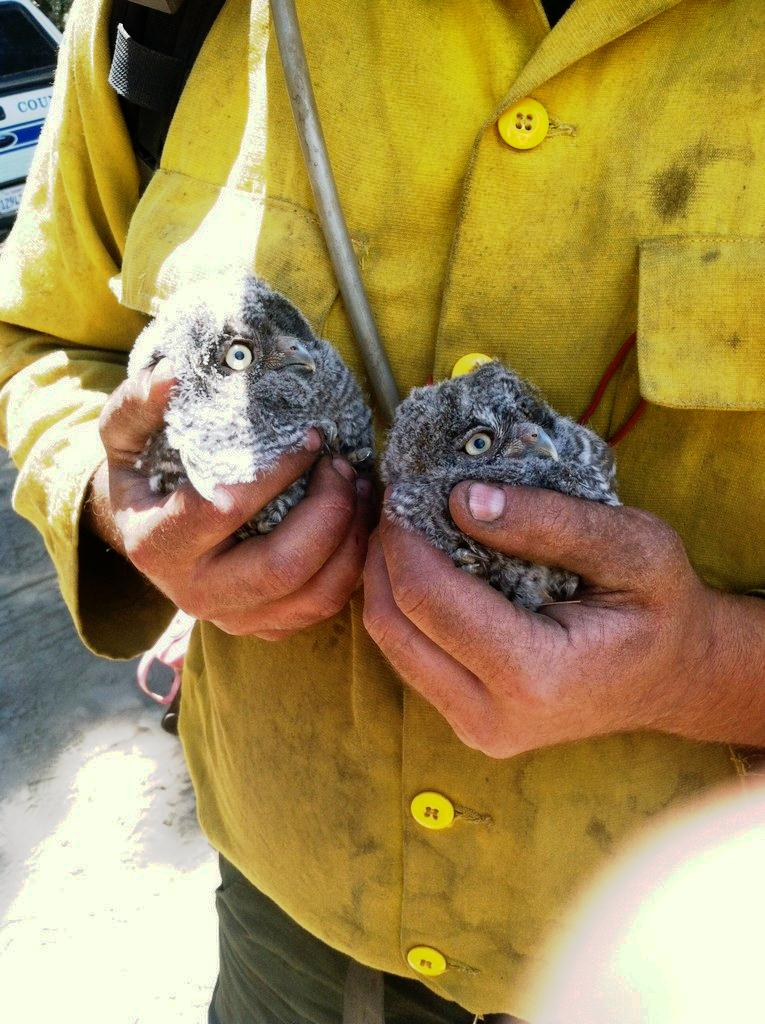Owl: (126, 266, 390, 536), (379, 356, 627, 618)
